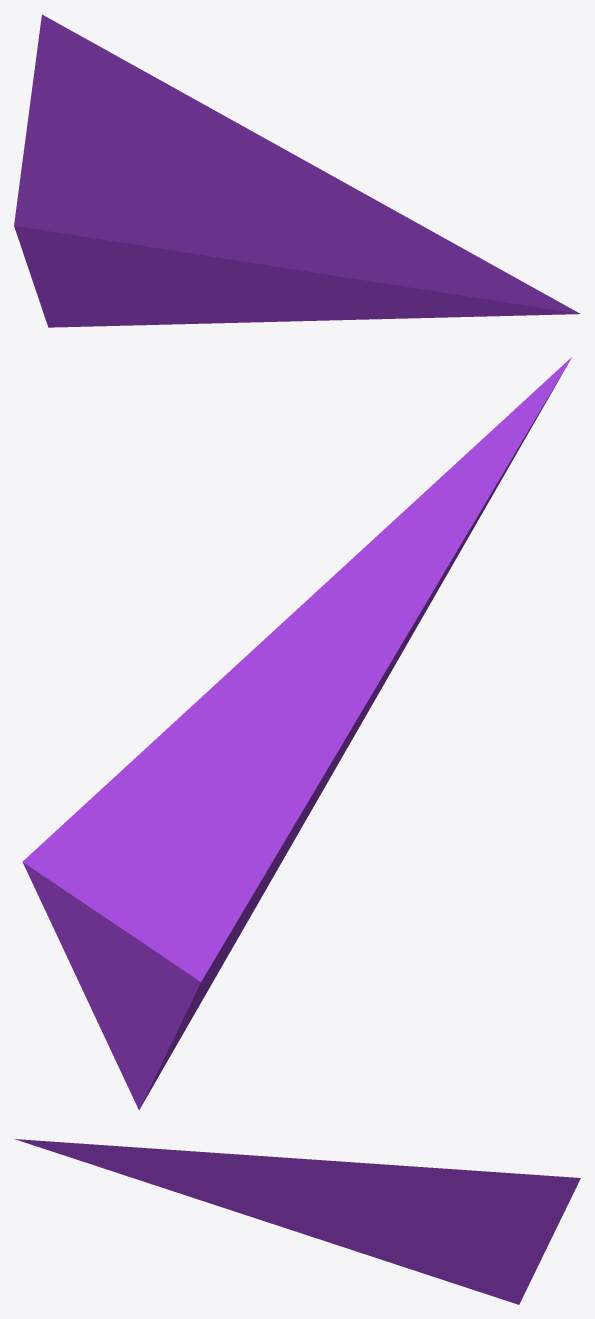
File: Window_2_14_chunks.fbx
The picture shows the model from 3 angles, top to bottom: view 1: azimuth 30°, elevation 25°; view 2: azimuth 150°, elevation 25°; view 3: azimuth 270°, elevation 25°; orthographic projection. The views are drawn at different scales.
Parts seen in each view (by area): view 1: Window_2_14_0; view 2: Window_2_14_0; view 3: Window_2_14_0.
Part boxes in pixels (left/top/right/bottom): Window_2_14_0: left=14, top=14, right=580, bottom=327; Window_2_14_0: left=22, top=357, right=571, bottom=1110; Window_2_14_0: left=14, top=1139, right=580, bottom=1304.
Bounding box in the file's own units: 24.09 × 69.61 × 195.
